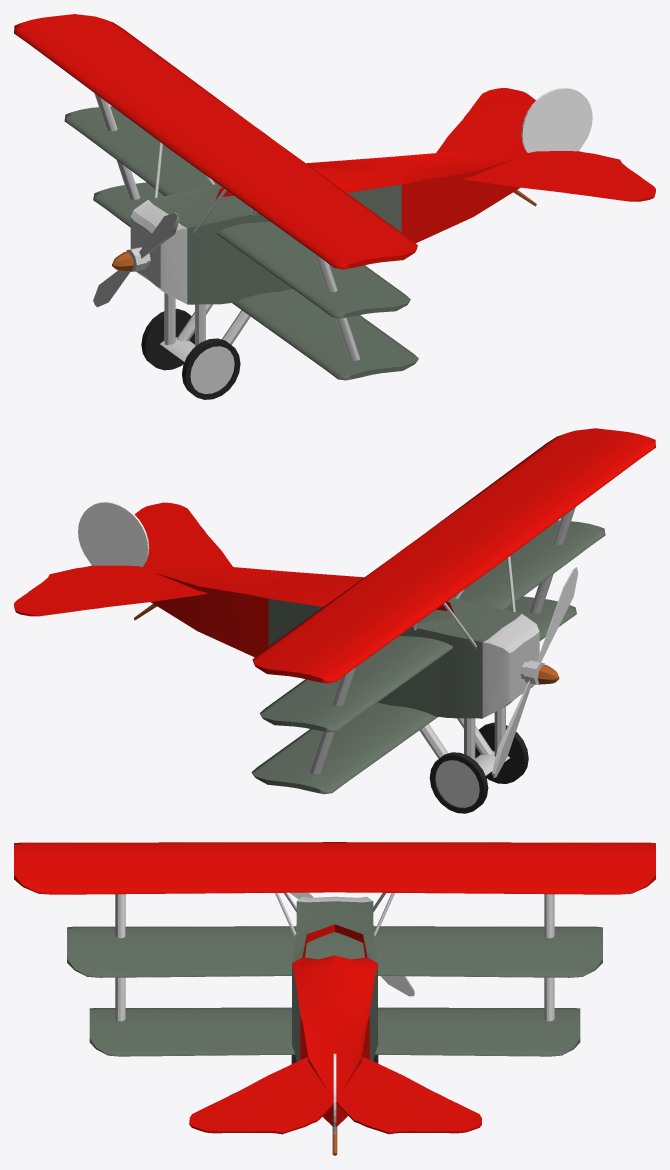
File: FokkerDR1-Basic.fbx
The picture shows the model from 3 angles, top to bottom: view 1: azimuth 30°, elevation 25°; view 2: azimuth 150°, elevation 25°; view 3: azimuth 270°, elevation 25°; orthographic projection. The views are drawn at different scales.
Parts seen in each view (by area): view 1: Fokker.DR1.001, Wings top.001, Wings mid.001, TailWing.001, Wings bot.001, Propellor.001; view 2: Fokker.DR1.001, Wings top.001, Wings mid.001, TailWing.001, Wings bot.001, Propellor.001; view 3: Wings top.001, Wings mid.001, Wings bot.001, Fokker.DR1.001, TailWing.001, Propellor.001.
Part boxes in pixels (x1=…): Fokker.DR1.001: x1=94, y1=87, x2=592, y2=399; Wings top.001: x1=14, y1=14, x2=417, y2=269; Wings mid.001: x1=64, y1=106, x2=410, y2=318; TailWing.001: x1=436, y1=88, x2=655, y2=201; Wings bot.001: x1=93, y1=182, x2=418, y2=380; Propellor.001: x1=93, y1=212, x2=179, y2=307; Fokker.DR1.001: x1=78, y1=501, x2=575, y2=813; Wings top.001: x1=252, y1=428, x2=655, y2=683; Wings mid.001: x1=260, y1=520, x2=605, y2=732; TailWing.001: x1=14, y1=502, x2=232, y2=616; Wings bot.001: x1=251, y1=596, x2=576, y2=794; Propellor.001: x1=492, y1=567, x2=578, y2=777; Wings top.001: x1=14, y1=842, x2=655, y2=894; Wings mid.001: x1=67, y1=926, x2=602, y2=977; Wings bot.001: x1=89, y1=1007, x2=580, y2=1056; Fokker.DR1.001: x1=115, y1=892, x2=554, y2=1155; TailWing.001: x1=189, y1=1057, x2=481, y2=1134; Propellor.001: x1=289, y1=892, x2=414, y2=996.
Bounding box in the file's own units: 570 × 273 × 675.
